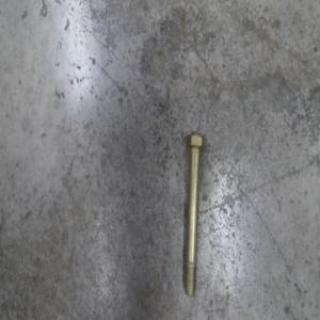Bolttrack_idkeyframe: (182, 131, 205, 299)
